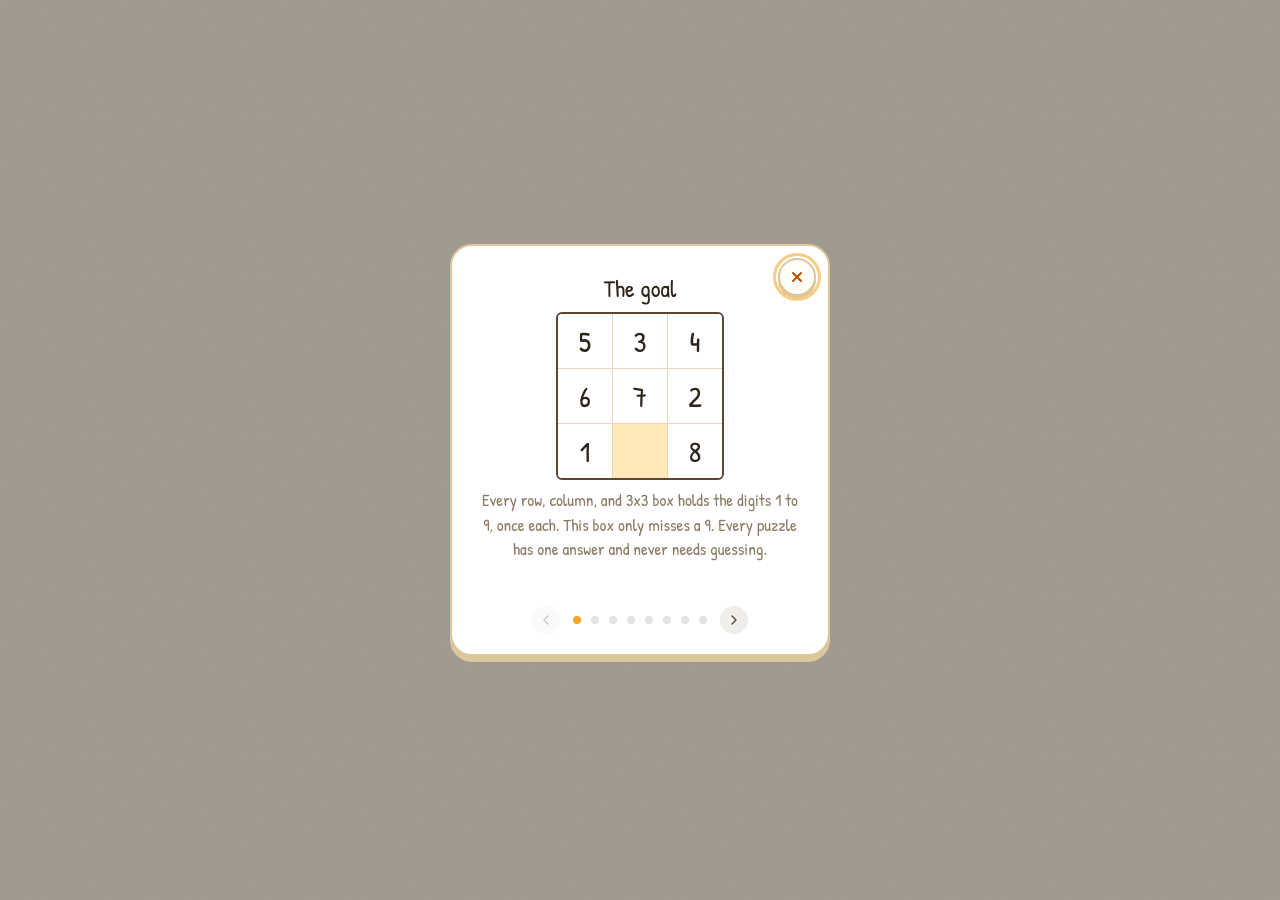
Game Modals › HelpModal › jumps with the dots and stops at both ends
Expected: the button named "Previous" is disabled, [532,606,560,634]
Step 1. Click the button named "Page 8: Saving and stats" → x=703, y=620, box [694,611,712,629]
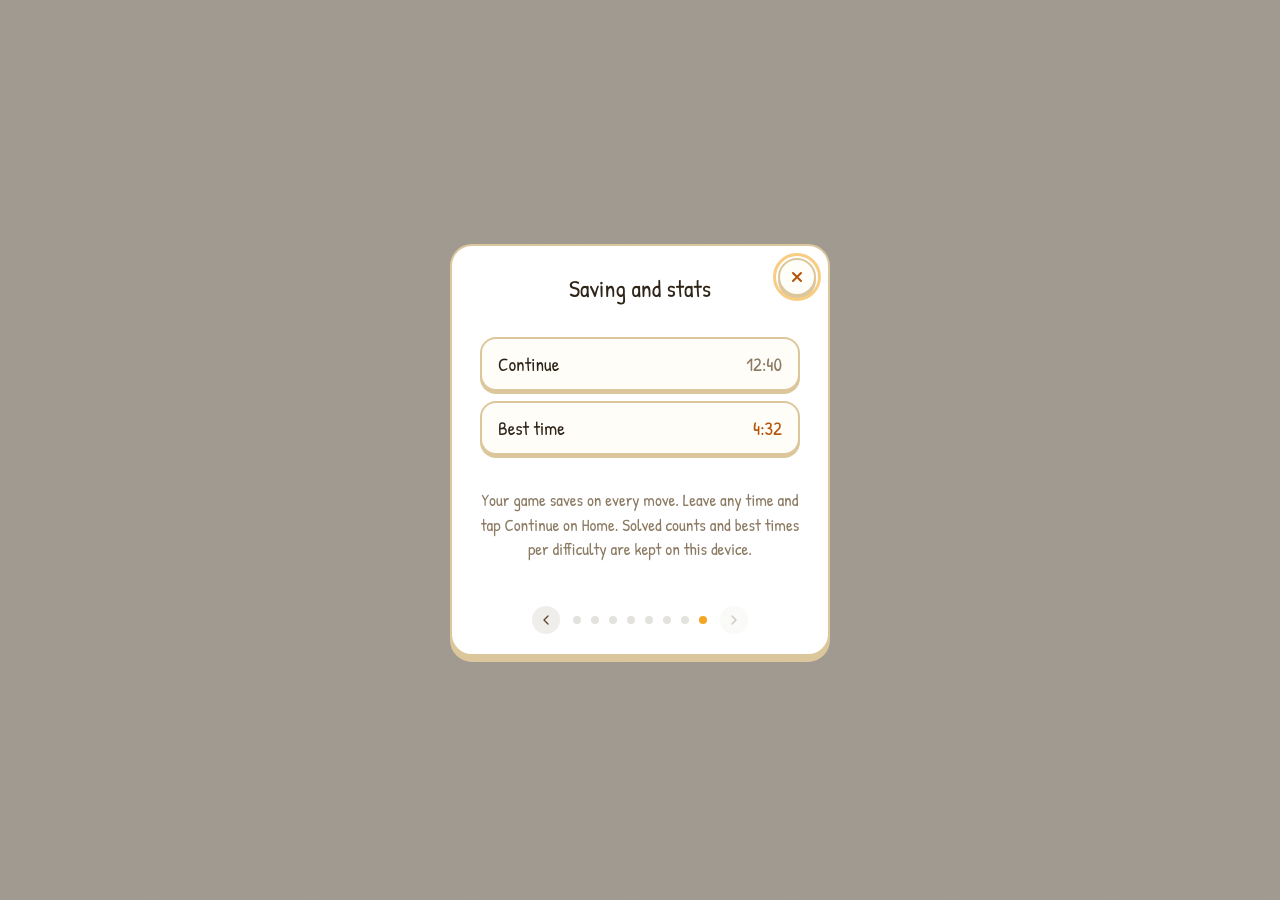
Expected: the button named "Next" is disabled, [720,606,748,634]
Expected: the heading "Saving and stats" is shown, [569,272,711,304]
